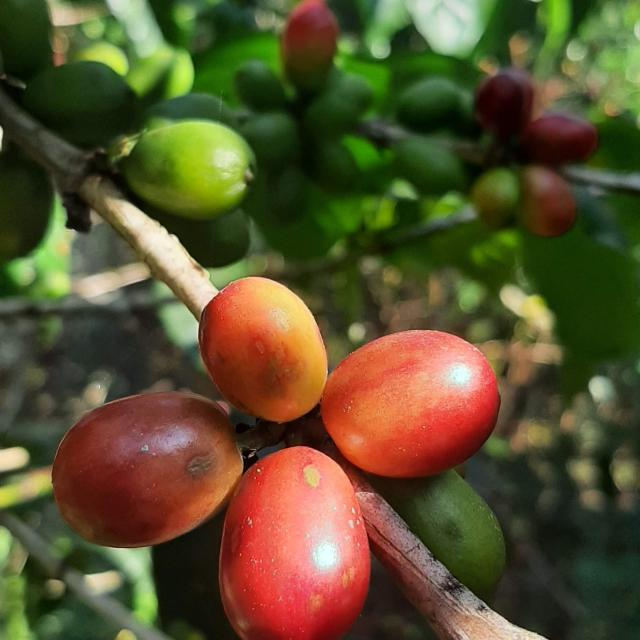green: (387, 471, 506, 599), (121, 120, 255, 220), (21, 60, 139, 147), (143, 205, 250, 268), (0, 147, 52, 263)
red: (219, 447, 370, 640)
yellow: (51, 392, 243, 549), (322, 331, 501, 479), (198, 277, 328, 423)
